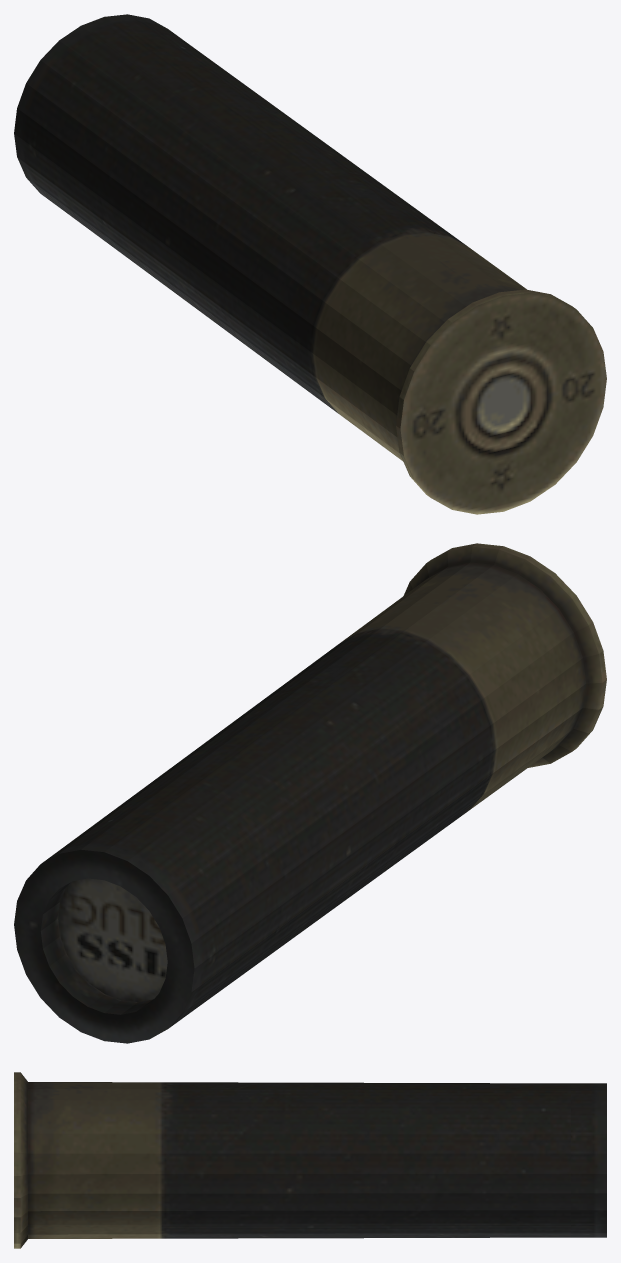
3 renders of one model, top to bottom at view 1: azimuth 30°, elevation 25°; view 2: azimuth 150°, elevation 25°; view 3: azimuth 270°, elevation 25°, orthographic. The views are drawn at different scales.
Visible parts, largest first — view 1: TW_660137d8481cc6907a0c5cda_PZ_Import; view 2: TW_660137d8481cc6907a0c5cda_PZ_Import; view 3: TW_660137d8481cc6907a0c5cda_PZ_Import.
Part boxes in pixels (bbox=[...]): TW_660137d8481cc6907a0c5cda_PZ_Import: bbox=[14, 14, 606, 514]; TW_660137d8481cc6907a0c5cda_PZ_Import: bbox=[14, 543, 606, 1043]; TW_660137d8481cc6907a0c5cda_PZ_Import: bbox=[14, 1072, 606, 1248].
Size of the model in its own units: 0.0112 by 0.0376 by 0.0112.
1 material, 1 textured.
